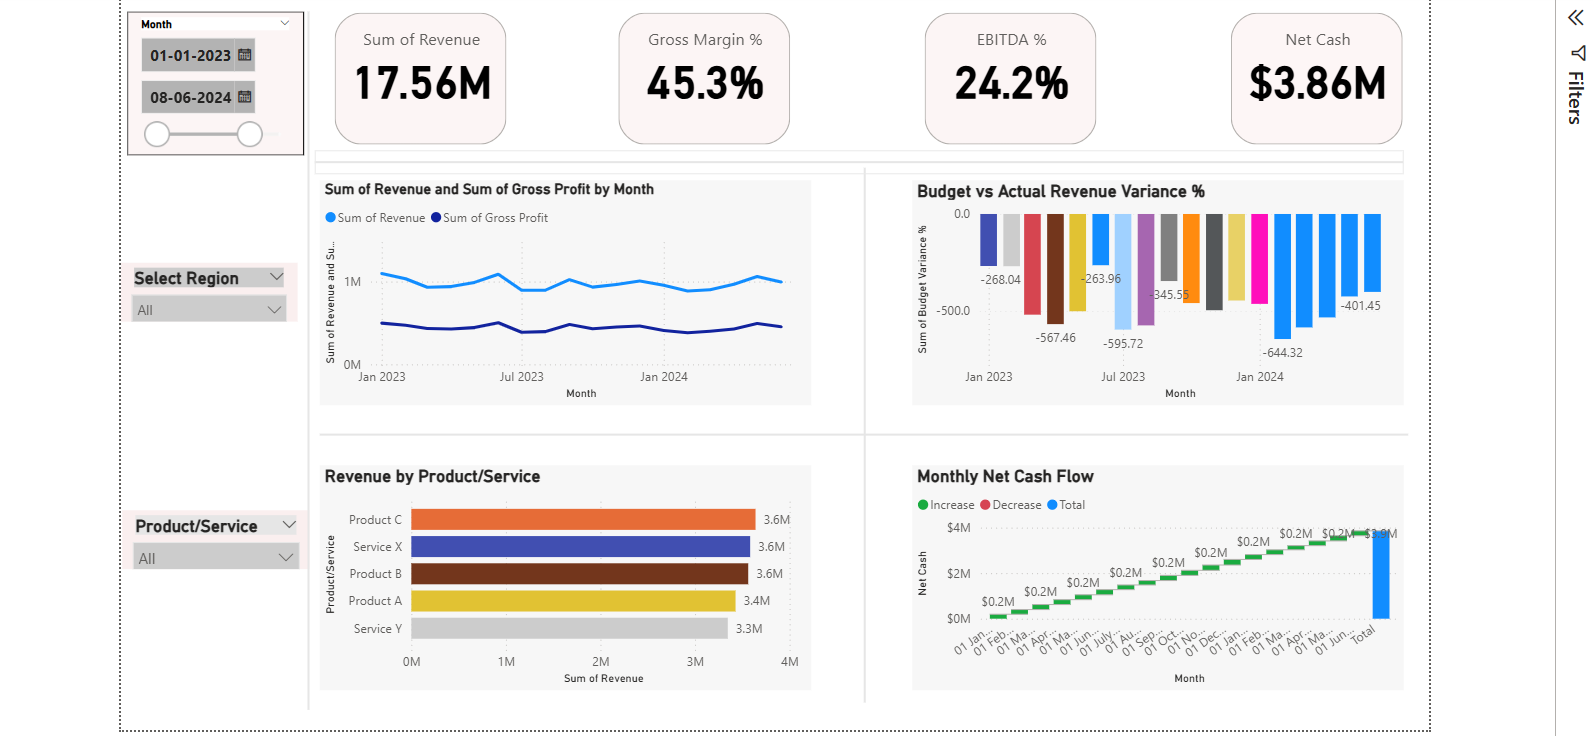

This screenshot's page, from the dashboard's own definition file:
{"tool":"powerbi","page":{"name":"Page 1","canvas":[1280,720],"ordinal":0},"visuals":[{"type":"cardVisual","fields":{"Data":["Data Analyst -Case Study Data xlsx - Data.Net Cash"]},"box":[1081,13.5,178.5,139.4],"z":0},{"type":"cardVisual","fields":{"Data":["Sum(Data Analyst -Case Study Data xlsx - Data.Revenue)"]},"box":[204.2,13.5,178.5,139.4],"z":1000},{"type":"cardVisual","fields":{"Data":["Data Analyst -Case Study Data xlsx - Data.Gross Margin %"]},"box":[481.8,13.5,178.5,139.4],"z":2000},{"type":"cardVisual","fields":{"Data":["Data Analyst -Case Study Data xlsx - Data.EBITDA %"]},"box":[781.4,13.5,178.5,139.4],"z":3000},{"type":"lineChart","fields":{"Y":["Sum(Data Analyst -Case Study Data xlsx - Data.Revenue)","Sum(Data Analyst -Case Study Data xlsx - Data.Gross Profit)"],"Category":["Data Analyst -Case Study Data xlsx - Data.Month"]},"box":[204.2,182.2,480.6,220.1],"z":4000},{"type":"slicer","fields":{"Values":["Data Analyst -Case Study Data xlsx - Data.Month"]},"box":[0,17.1,172.4,140.6],"z":5000},{"type":"slicer","fields":{"Values":["Data Analyst -Case Study Data xlsx - Data.Region"]},"box":[0,262.9,172.4,57.5],"z":6000},{"type":"slicer","fields":{"Values":["Data Analyst -Case Study Data xlsx - Data.Product/Service"]},"box":[0,451.2,183.4,57.5],"z":7000},{"type":"clusteredColumnChart","title":"Budget vs Actual Revenue Variance %","fields":{"Category":["Data Analyst -Case Study Data xlsx - Data.Month"],"Y":["Sum(Data Analyst -Case Study Data xlsx - Data.Budget Variance %)"]},"box":[774.1,182.2,480.6,220.1],"z":8000},{"type":"clusteredBarChart","title":"Revenue by Product/Service","fields":{"Category":["Data Analyst -Case Study Data xlsx - Data.Product/Service"],"Y":["Sum(Data Analyst -Case Study Data xlsx - Data.Revenue)"]},"box":[204.2,480.6,480.6,220.1],"z":9000},{"type":"waterfallChart","title":"Monthly Net Cash Flow","fields":{"Y":["Data Analyst -Case Study Data xlsx - Data.Net Cash"],"Category":["Data Analyst -Case Study Data xlsx - Data.Month"]},"box":[774.1,480.6,480.6,220.1],"z":10000},{"type":"shape","box":[720.2,23.2,12.2,683.6],"z":11000},{"type":"shape","box":[177.3,17.1,12.2,683.6],"z":12000},{"type":"shape","box":[194.4,419.4,1065.1,23.2],"z":13000},{"type":"shape","box":[189.5,145.5,1065.1,23.2],"z":14000}]}

Visuals, with their boxes on the page's 1280x720 design canvas (x1, y1, x2, y2). These are canvas units, not pixel positions in the 1593x736 screenshot, which may show the page scaled, cropped or inside an application window:
cardVisual - Data Analyst -Case Study Data xlsx - Data.Net Cash: (x1=1081, y1=14, x2=1260, y2=153)
cardVisual - Sum(Data Analyst -Case Study Data xlsx - Data.Revenue): (x1=204, y1=14, x2=383, y2=153)
cardVisual - Data Analyst -Case Study Data xlsx - Data.Gross Margin %: (x1=482, y1=14, x2=660, y2=153)
cardVisual - Data Analyst -Case Study Data xlsx - Data.EBITDA %: (x1=781, y1=14, x2=960, y2=153)
lineChart - Sum(Data Analyst -Case Study Data xlsx - Data.Revenue) x Sum(Data Analyst -Case Study Data xlsx - Data.Gross Profit): (x1=204, y1=182, x2=685, y2=402)
slicer - Data Analyst -Case Study Data xlsx - Data.Month: (x1=0, y1=17, x2=172, y2=158)
slicer - Data Analyst -Case Study Data xlsx - Data.Region: (x1=0, y1=263, x2=172, y2=320)
slicer - Data Analyst -Case Study Data xlsx - Data.Product/Service: (x1=0, y1=451, x2=183, y2=509)
"Budget vs Actual Revenue Variance %" clusteredColumnChart: (x1=774, y1=182, x2=1255, y2=402)
"Revenue by Product/Service" clusteredBarChart: (x1=204, y1=481, x2=685, y2=701)
"Monthly Net Cash Flow" waterfallChart: (x1=774, y1=481, x2=1255, y2=701)
shape: (x1=720, y1=23, x2=732, y2=707)
shape: (x1=177, y1=17, x2=190, y2=701)
shape: (x1=194, y1=419, x2=1260, y2=443)
shape: (x1=190, y1=146, x2=1255, y2=169)
